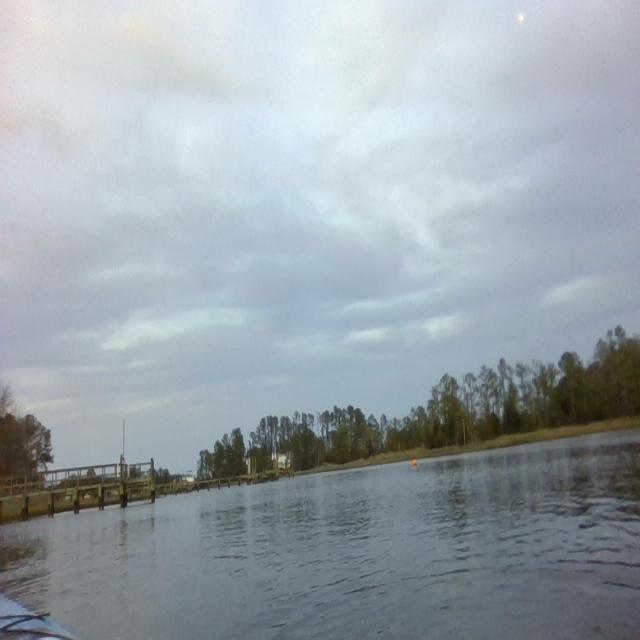Buoy: (411, 456, 418, 468)
